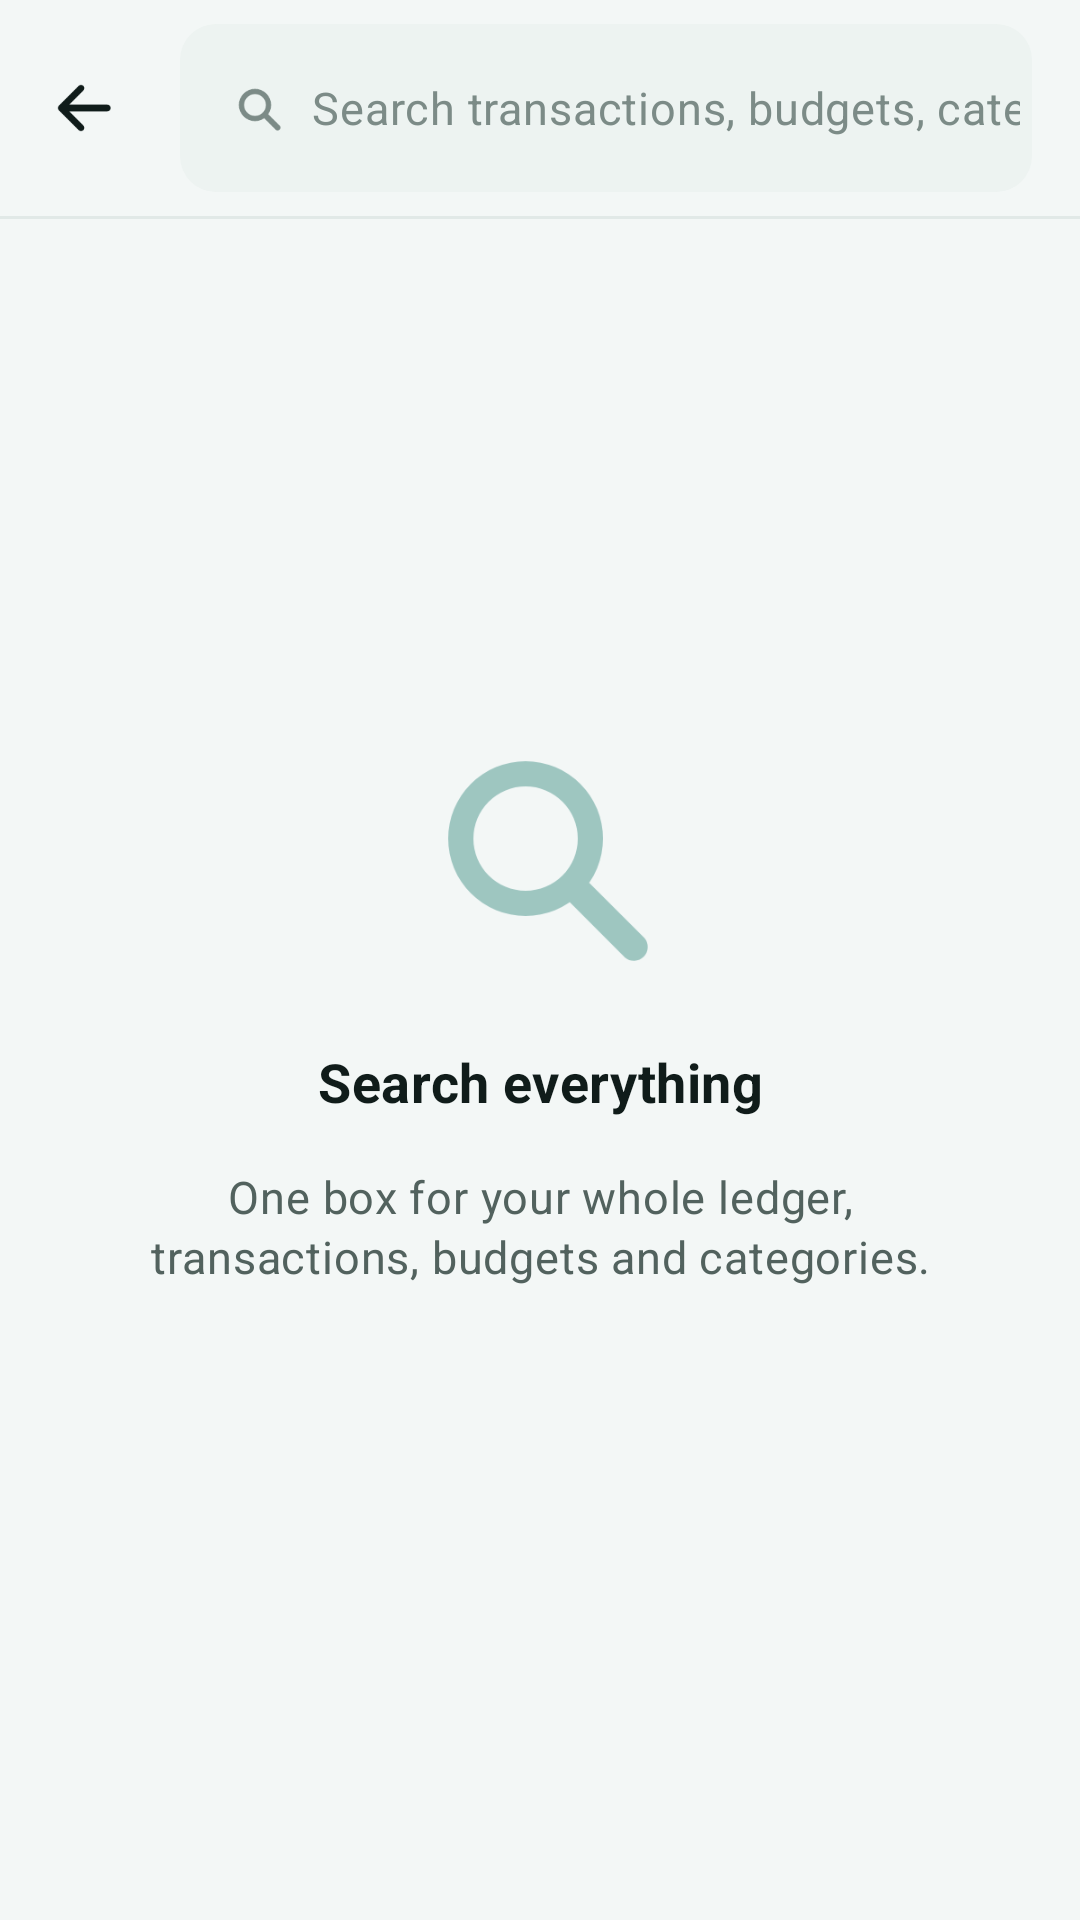

Screen size 1080x1920. Icon name, then its box in pixels as bbox=(x1, y1, x2, y2):
Navigate back: bbox=(57, 84, 111, 132)
